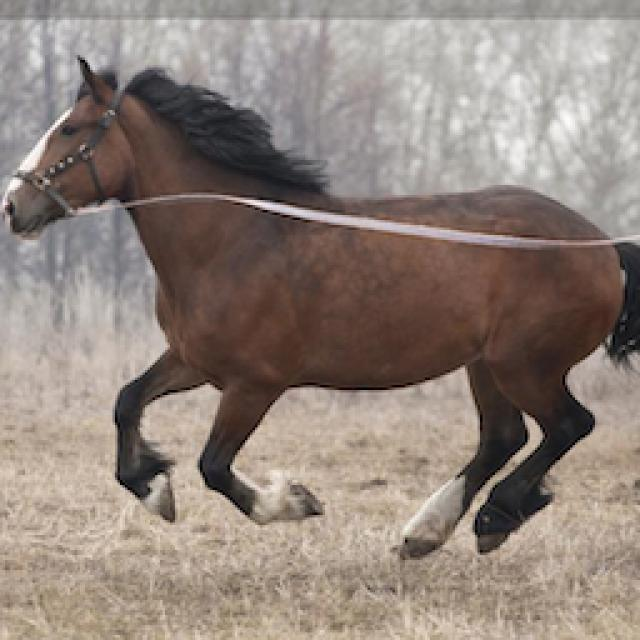Horse: (0, 50, 638, 568)
